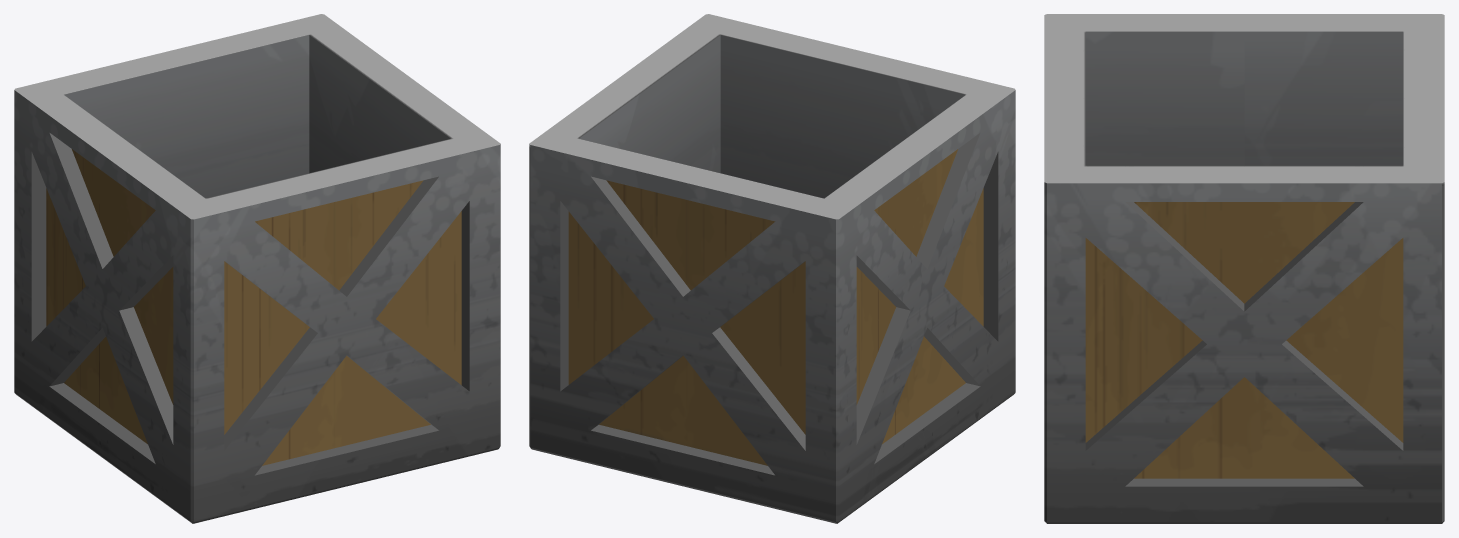
The model's file is Crate_Base.fbx.
The picture shows the model from 3 angles, left to right: view 1: azimuth 30°, elevation 25°; view 2: azimuth 150°, elevation 25°; view 3: azimuth 270°, elevation 25°; orthographic projection. The views are drawn at different scales.
Parts seen in each view (by area): view 1: Crate_Base; view 2: Crate_Base; view 3: Crate_Base.
Part boxes in pixels (x1,y1,x2,y2): Crate_Base: (14, 14, 500, 523); Crate_Base: (529, 14, 1015, 523); Crate_Base: (1044, 14, 1444, 523).
Bounding box in the file's own units: 2449 × 2306 × 2448.
